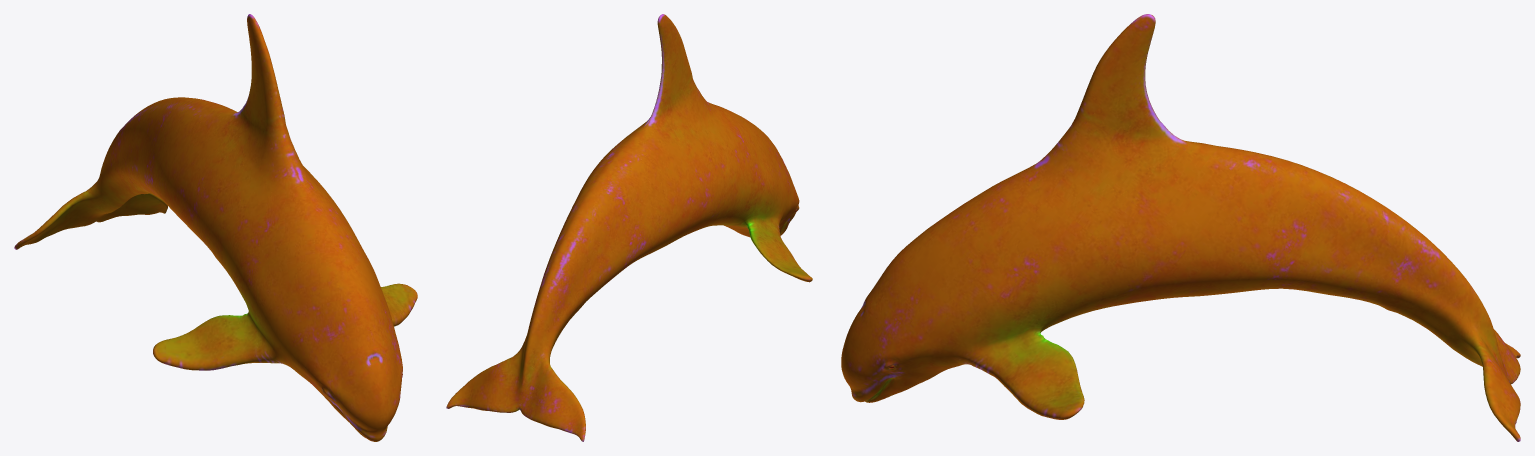
Rendered from KillerWhale.glb.
3 renders of one model, left to right at view 1: azimuth 30°, elevation 25°; view 2: azimuth 150°, elevation 25°; view 3: azimuth 270°, elevation 25°, orthographic. The views are drawn at different scales.
Visible parts, largest first — view 1: killer_whale.1; view 2: killer_whale.1; view 3: killer_whale.1.
Boxes of the visible parts, left/top/right/bottom form: killer_whale.1: left=14, top=14, right=417, bottom=441; killer_whale.1: left=446, top=14, right=812, bottom=441; killer_whale.1: left=841, top=14, right=1520, bottom=441.
Size of the model in its own units: 0.0314 by 0.0385 by 0.0611.
Materials: 1 (1 with a texture image).
